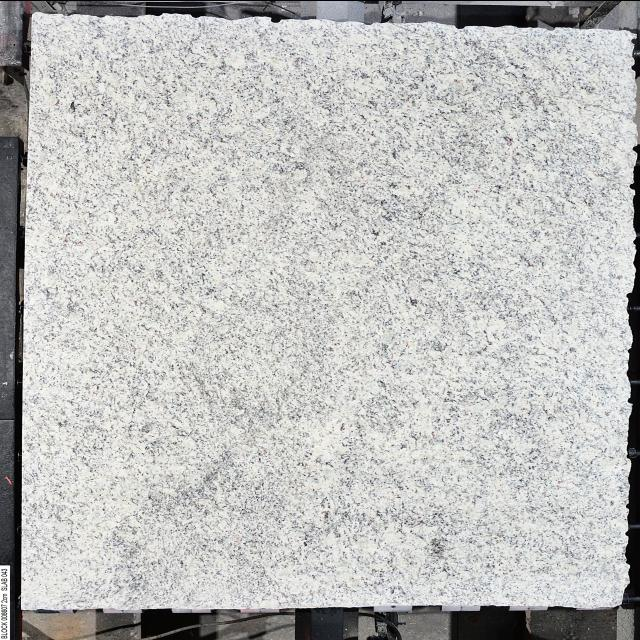chapa: (22, 12, 636, 609)
veio: (268, 16, 282, 22)
